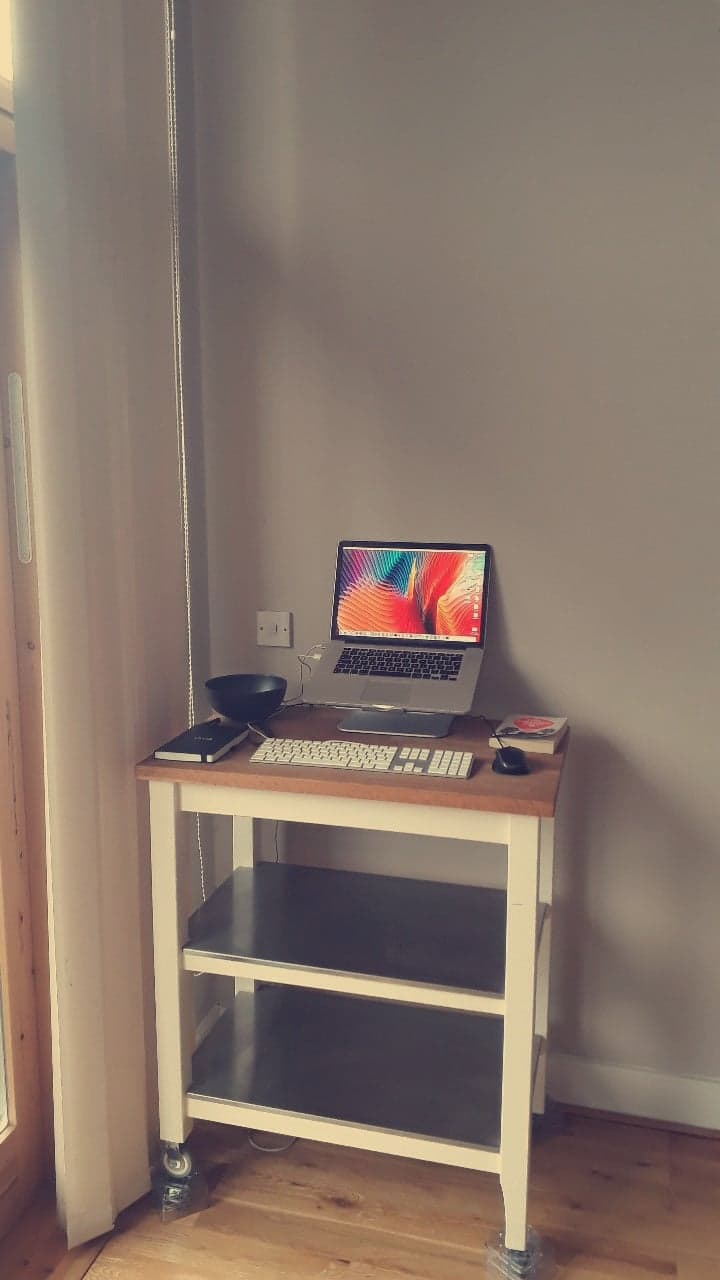Book: (483, 712, 575, 754)
Desk (Generic): (112, 708, 587, 1280)
Keyboard (Generic): (247, 730, 481, 782)
Laptop (OSX): (298, 535, 497, 713)
Laptop Stand: (326, 699, 466, 741)
Monitor (Laptop): (326, 528, 497, 651)
Mouse (Ergonomic): (489, 736, 536, 779)
Notebook: (150, 724, 249, 765)
